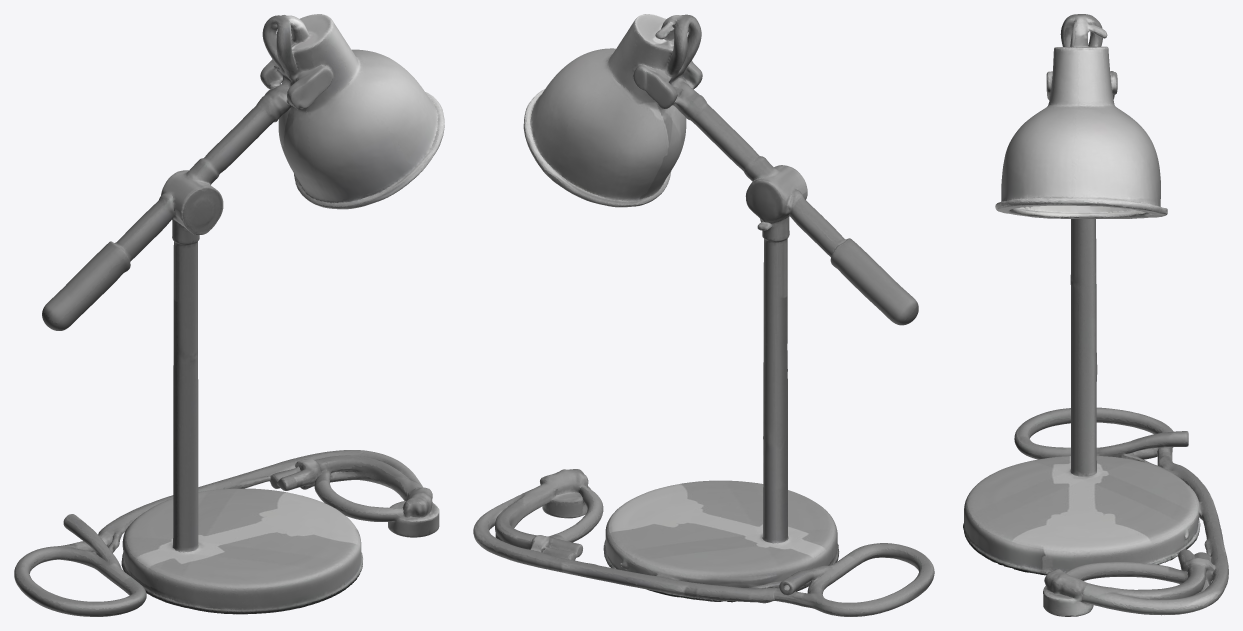
Rendered from model-slim.glb.
The picture shows the model from 3 angles, left to right: view 1: azimuth 30°, elevation 25°; view 2: azimuth 150°, elevation 25°; view 3: azimuth 270°, elevation 25°; orthographic projection. The views are drawn at different scales.
Size of the model in its own units: 0.3609 by 0.45 by 0.2035.
Materials: 1 (1 with a texture image).
